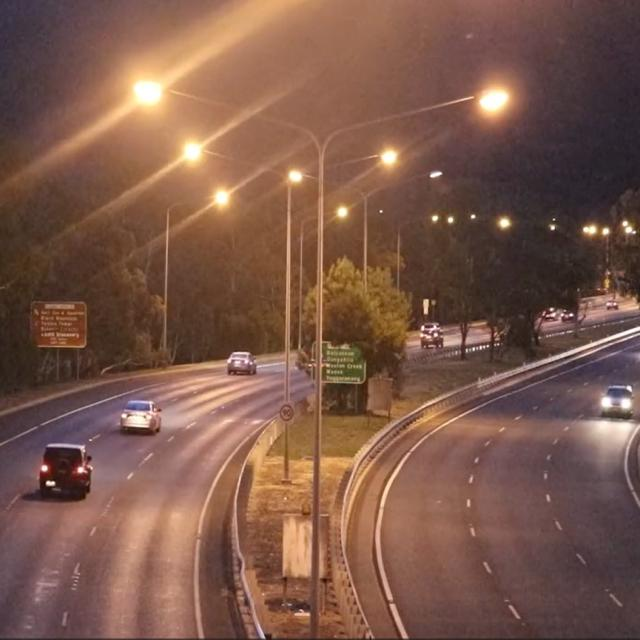car: (38, 442, 95, 502), (120, 399, 162, 436), (599, 383, 635, 420), (227, 351, 257, 376), (419, 322, 443, 349)
